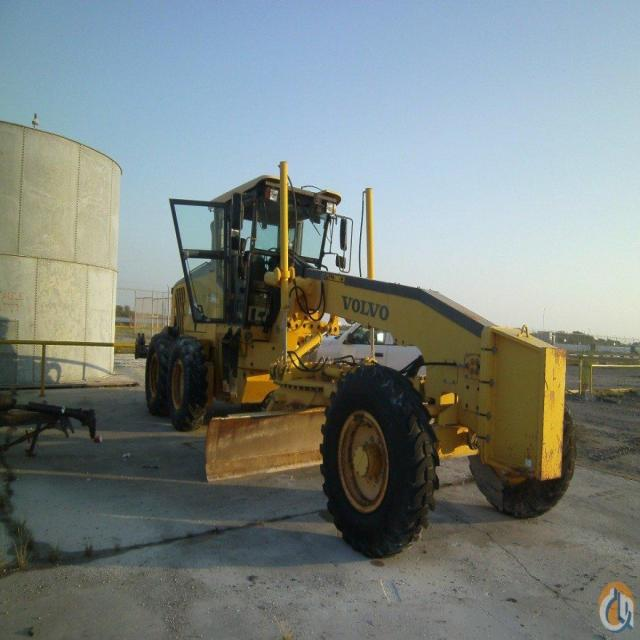Grader: (140, 162, 582, 558)
